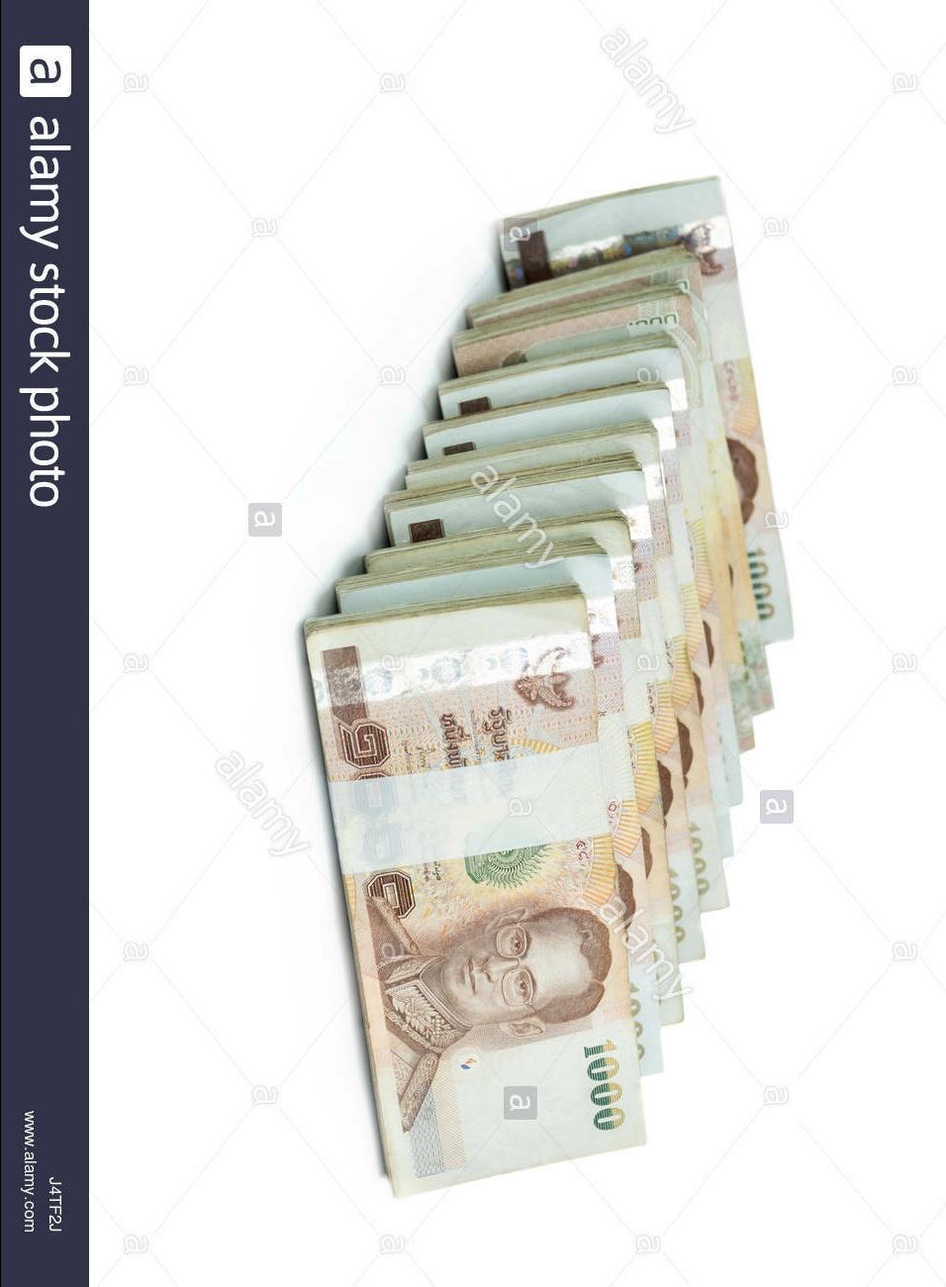1000BahtTai: (319, 628, 632, 1153)
